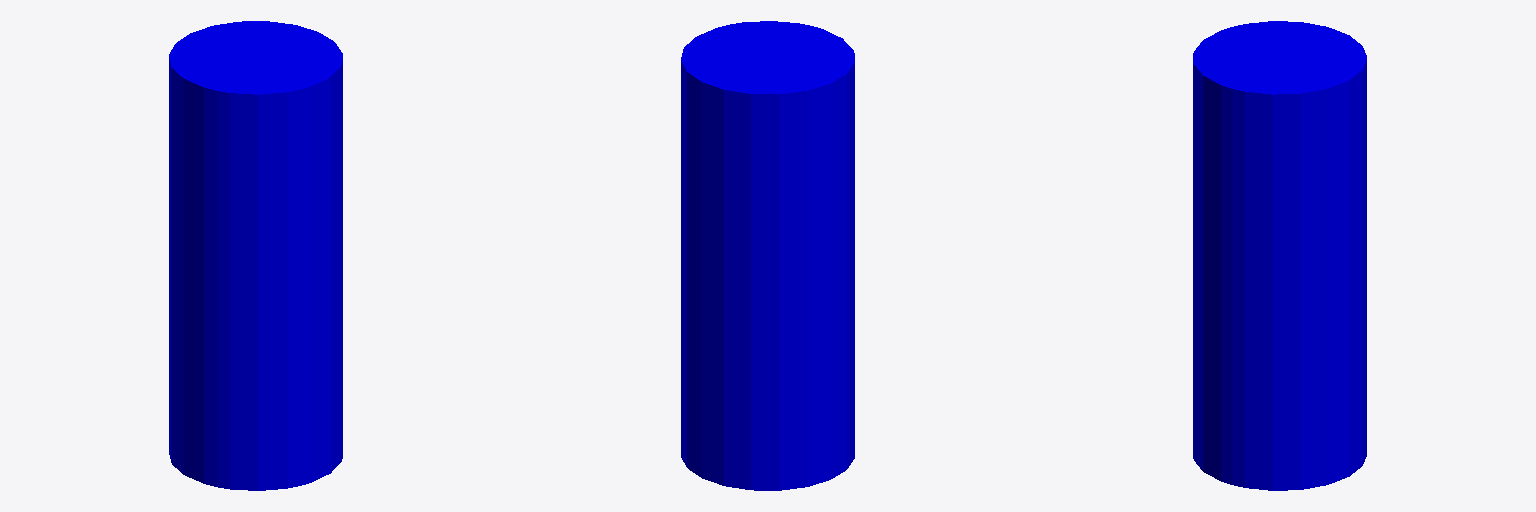
File: Pin.obj
3 views of the same model, side by side, from view 1: azimuth 30°, elevation 25°; view 2: azimuth 150°, elevation 25°; view 3: azimuth 270°, elevation 25° (orthographic).
Visible parts, largest first — view 1: mesh 1 Pin; view 2: mesh 1 Pin; view 3: mesh 1 Pin.
Part boxes in pixels (left/top/right/bottom): mesh 1 Pin: left=169, top=21, right=342, bottom=490; mesh 1 Pin: left=681, top=21, right=854, bottom=490; mesh 1 Pin: left=1193, top=21, right=1366, bottom=490.
Bounding box in the file's own units: 0.005 × 0.0125 × 0.005.